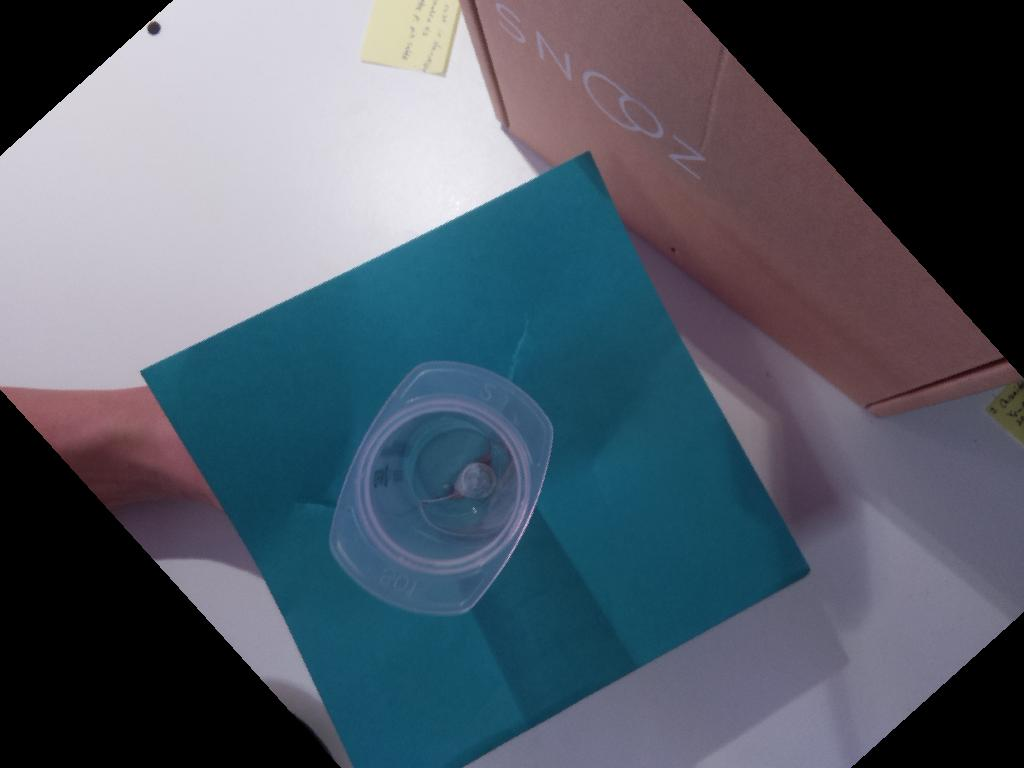clean: (327, 359, 555, 616)
